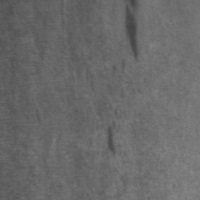inclusion: (122, 1, 145, 63), (100, 119, 121, 159)
